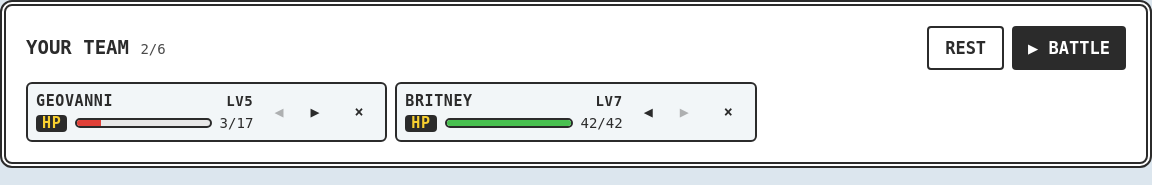
Scenario: TeamBar › lists members with level and HP, rests and removes
This screenshot has width=1152, height=185.
Expected: the text "Geovanni" is shown, [36,93,113,110]
Expected: the list named "Team members" shows "3/17", [26,82,757,142]
Click the button "Rest" at (966, 48), box [927,26,1004,70]
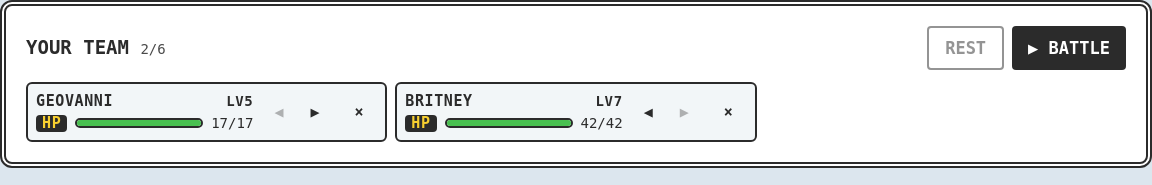
Expected: the list named "Team members" shows "17/17", [26,82,757,142]
Expected: the button "Rest" is disabled, [927,26,1004,70]
Click the button named "Remove Britney from team" at (729, 112), box [711,94,747,130]
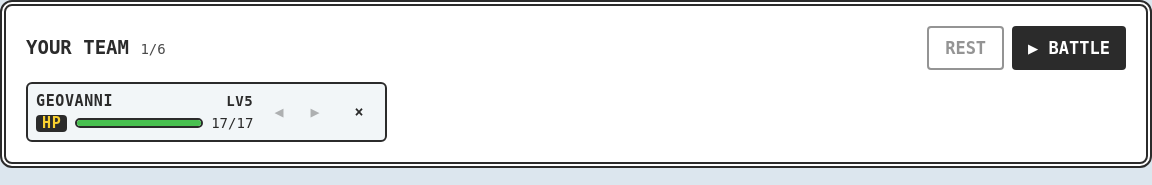
Expected: the text "Britney" is gone
